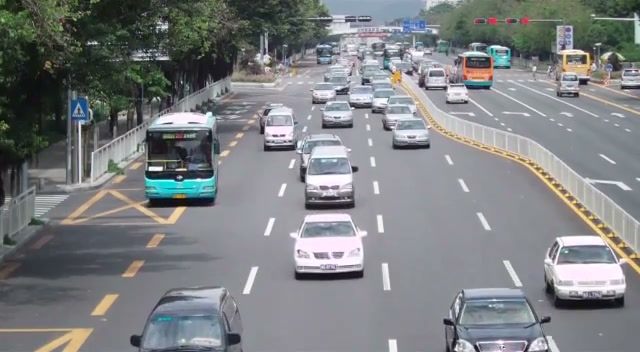bus: (143, 111, 219, 204), (460, 51, 494, 89), (557, 49, 591, 84), (486, 45, 511, 68)
car: (130, 286, 245, 352), (442, 288, 559, 352), (543, 235, 627, 308), (290, 212, 367, 279), (304, 147, 357, 209), (297, 135, 345, 182), (263, 109, 297, 151), (381, 98, 419, 131), (392, 118, 431, 149), (321, 101, 354, 128), (348, 85, 375, 108), (423, 68, 448, 90), (312, 83, 337, 104), (445, 83, 469, 104), (619, 65, 640, 89)
truck: (556, 50, 591, 83), (557, 72, 580, 97)
